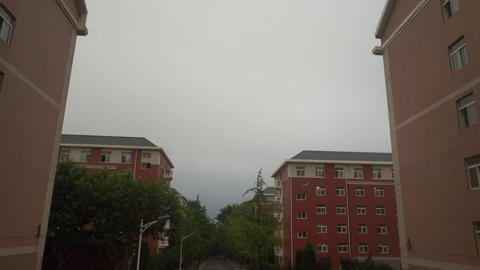UAV: (302, 183, 310, 188)
